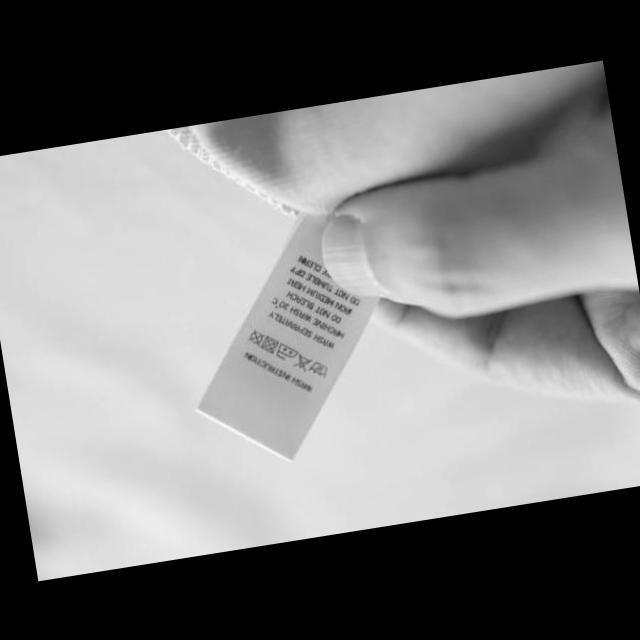30C: (306, 357, 330, 381)
DN_bleach: (290, 349, 314, 374)
DN_dry_clean: (244, 326, 266, 348)
DN_tumble_dry: (256, 332, 280, 357)
iron_medium: (272, 340, 300, 362)
